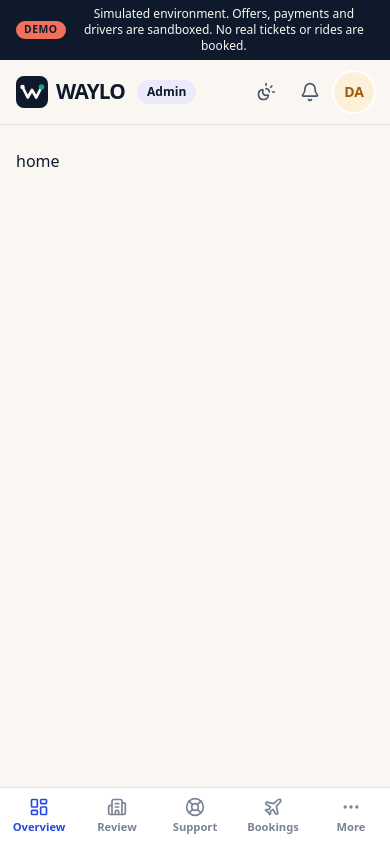
Test: portal layout on phones › puts sections beyond the fourth behind a More sheet
Expected: the link "Rides" is not shown
Click the button "More" at (351, 816), box [312,788,389,843]
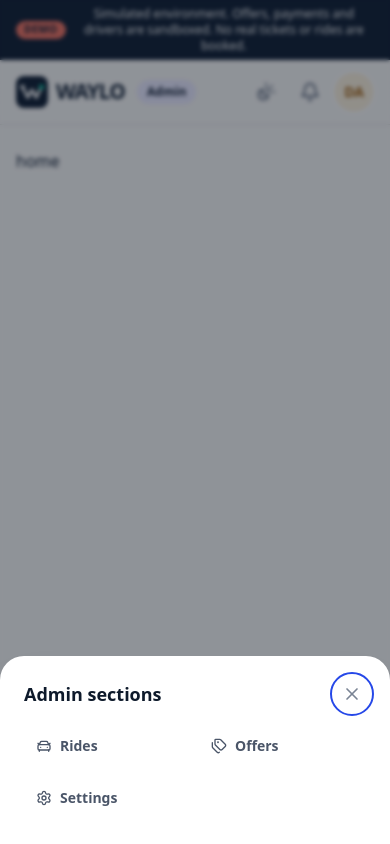
Expected: the links read "Rides", "Offers", "Settings", in this order, [36,736,98,755]; [211,736,279,755]; [36,788,117,807]
